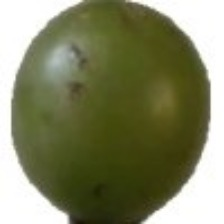grapes: (7, 29, 196, 213)
